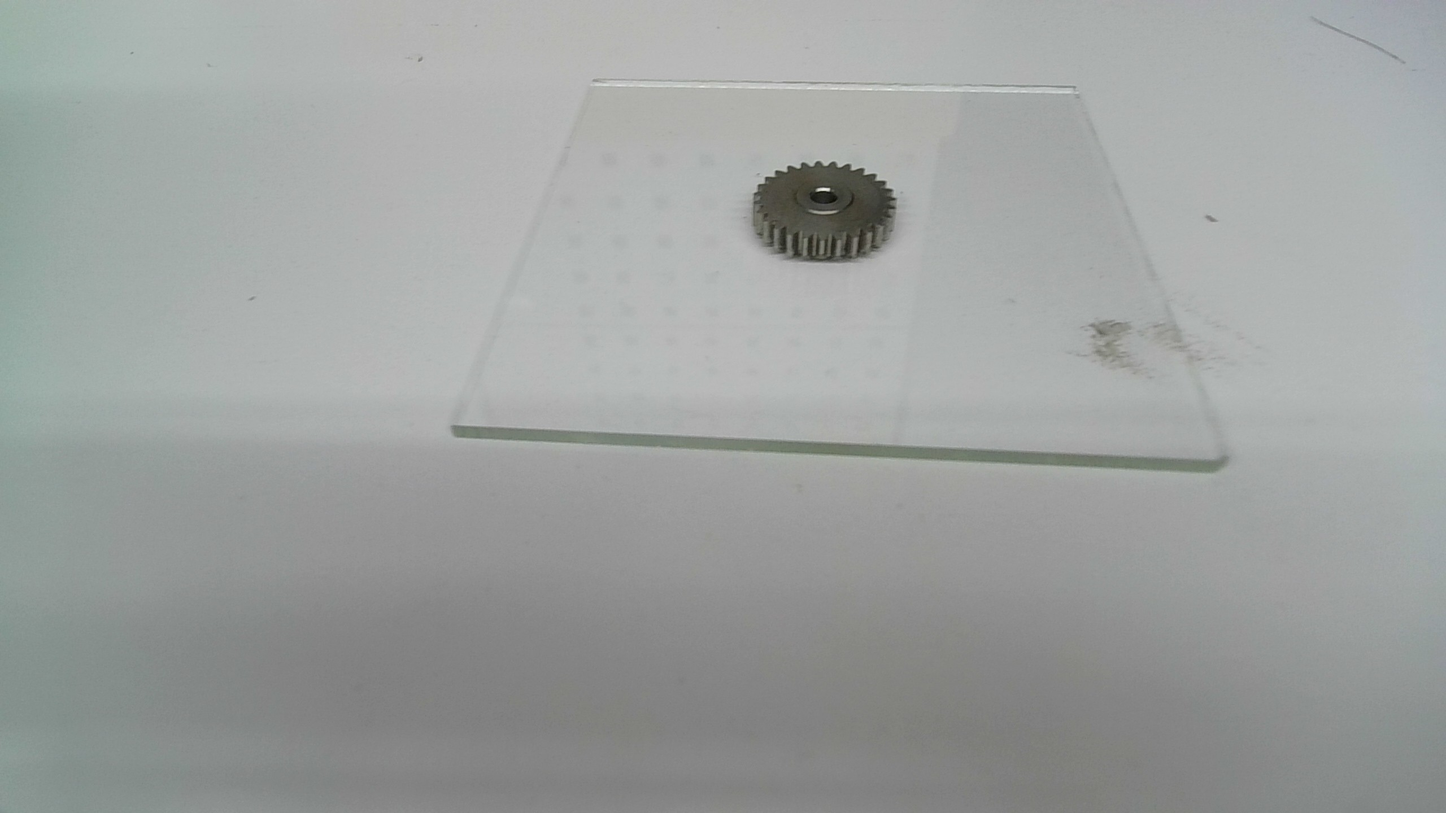gear: (748, 159, 901, 265)
